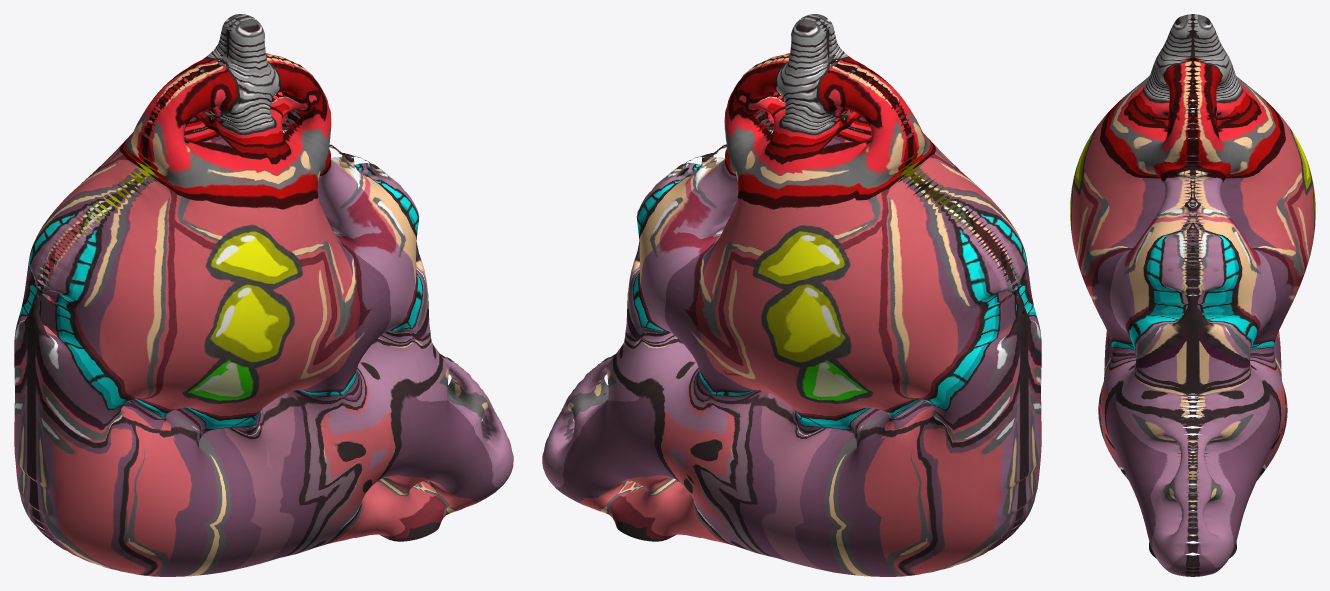
Rendered from valve_machine.glb.
The picture shows the model from 3 angles, left to right: view 1: azimuth 30°, elevation 25°; view 2: azimuth 150°, elevation 25°; view 3: azimuth 270°, elevation 25°; orthographic projection. The views are drawn at different scales.
Visible parts, largest first — view 1: valve_machine; view 2: valve_machine; view 3: valve_machine.
Boxes of the visible parts, x1,y1,x2,y2 form: valve_machine: [14, 14, 513, 576]; valve_machine: [542, 14, 1041, 576]; valve_machine: [1070, 14, 1315, 576].
Size of the model in its own units: 0.9878 by 1.07 by 0.5087.
1 material, 1 textured.
